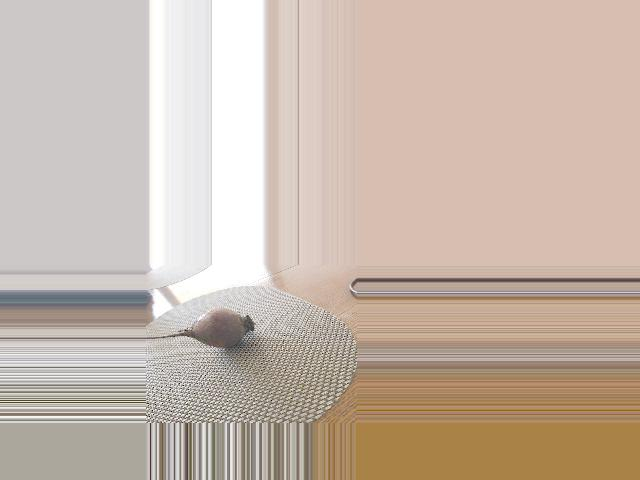beet: (146, 308, 254, 347)
